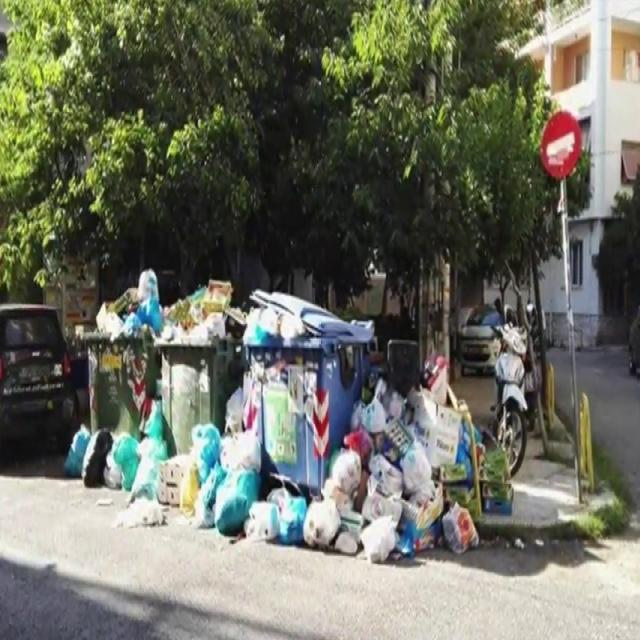garbage: (59, 384, 504, 583), (79, 268, 306, 363)
